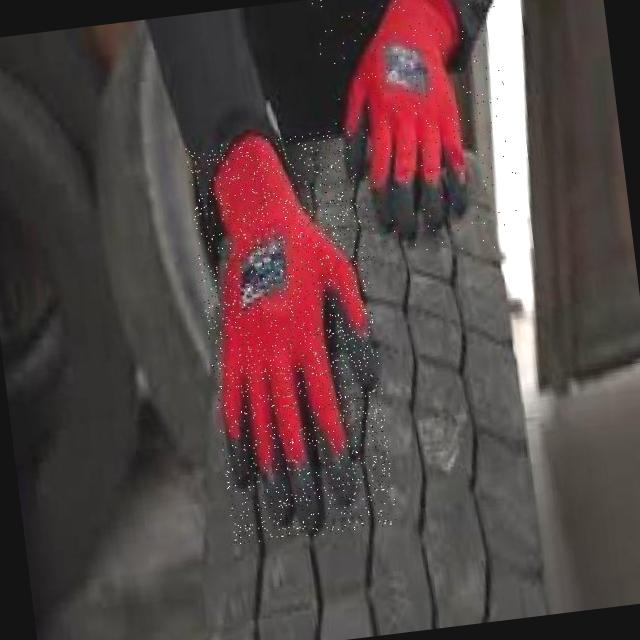gloves: (183, 126, 387, 492), (319, 0, 488, 241)
